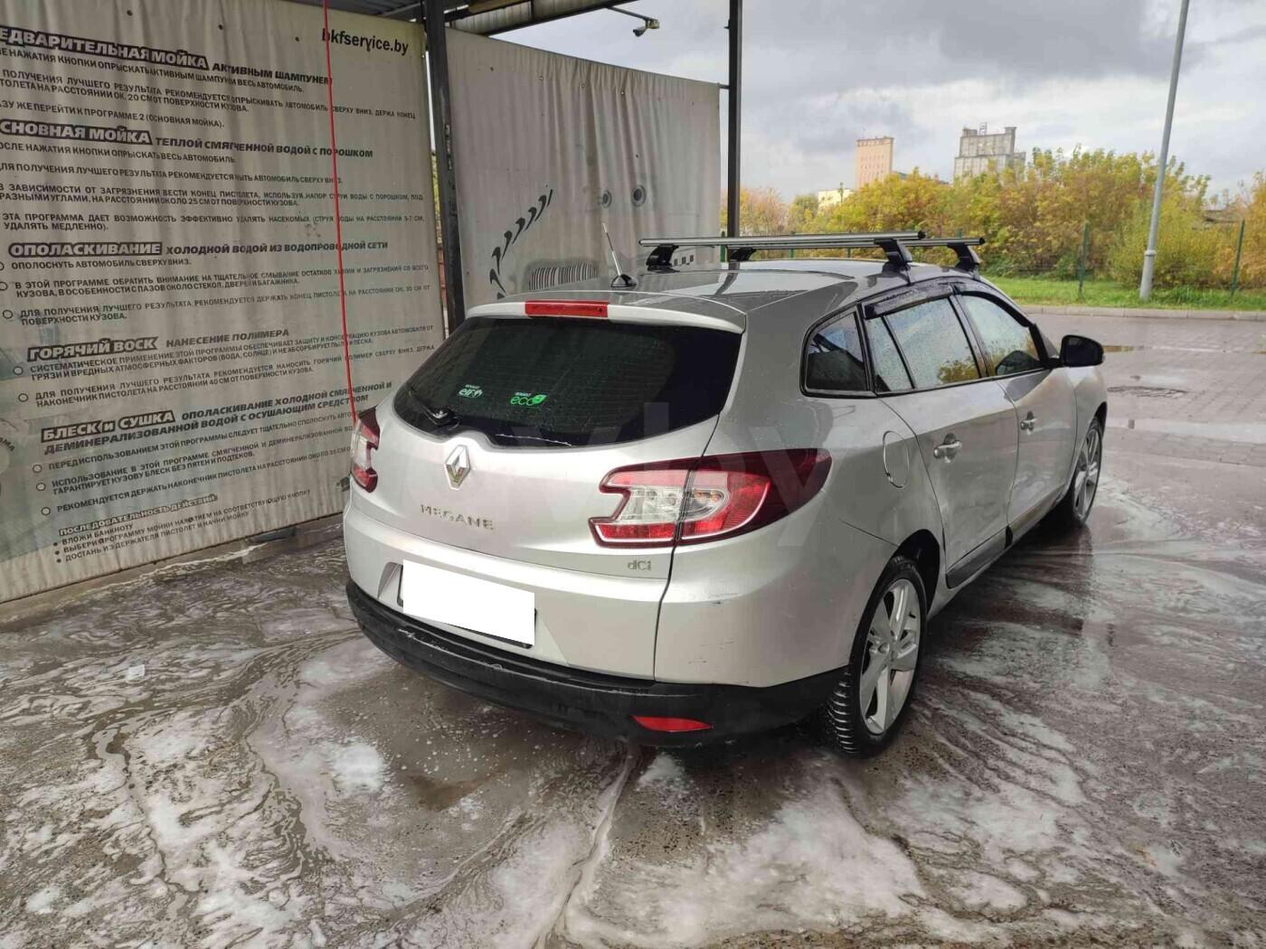Megane_2008-2014: (332, 257, 1116, 737)
